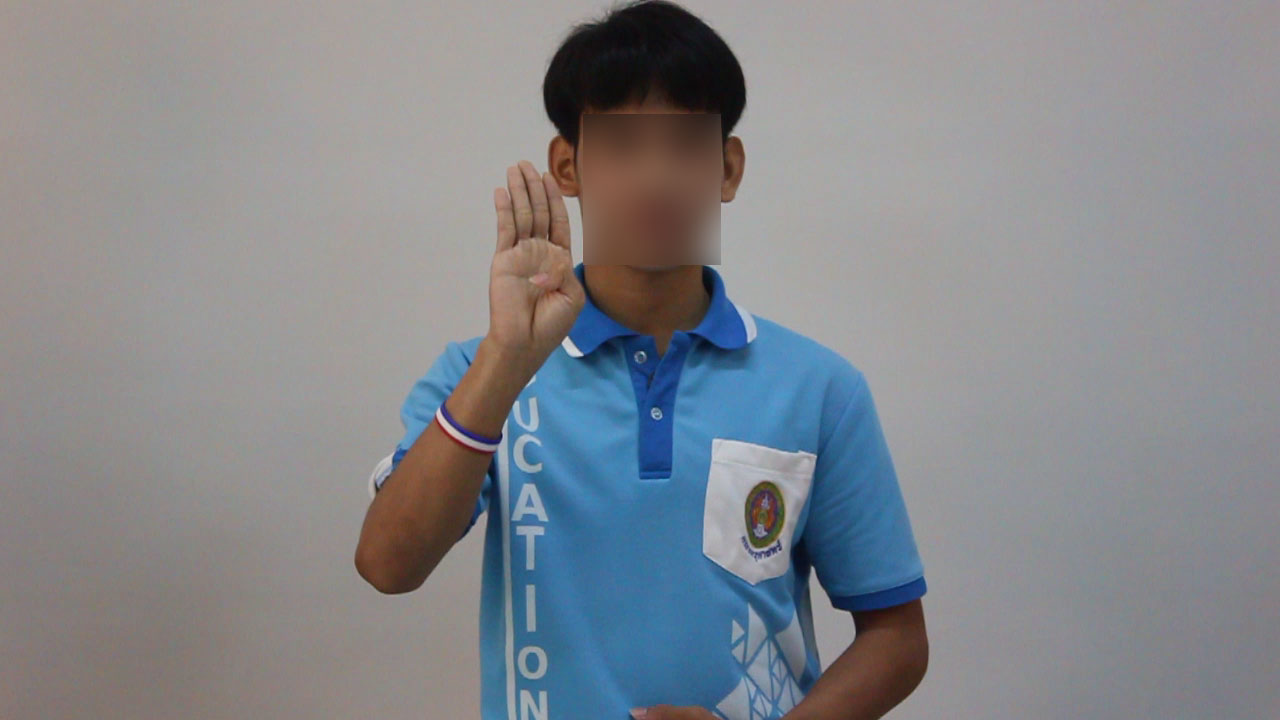bor: (472, 137, 599, 383)
